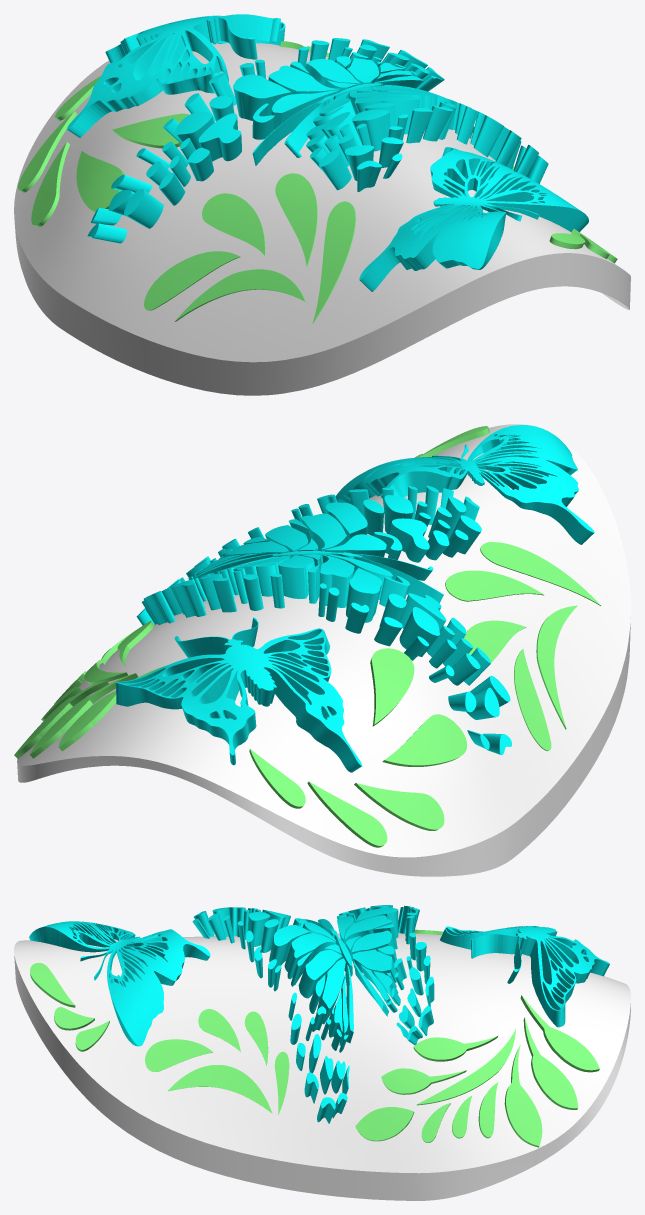
Rendered from butterfly-cove-oval-web.glb.
The picture shows the model from 3 angles, top to bottom: view 1: azimuth 30°, elevation 25°; view 2: azimuth 150°, elevation 25°; view 3: azimuth 270°, elevation 25°; orthographic projection. The views are drawn at different scales.
Bounding box in the file's own units: 0.0139 × 0.00686 × 0.0201.
